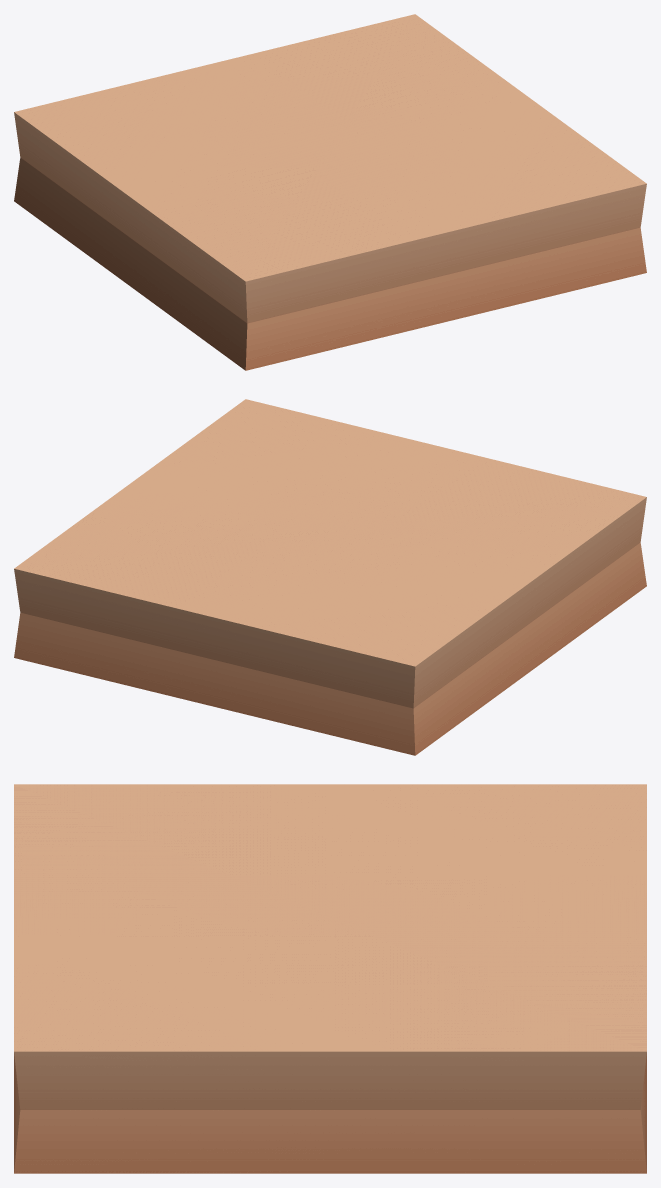
File: roof-flat-detail-c.glb
3 renders of one model, top to bottom at view 1: azimuth 30°, elevation 25°; view 2: azimuth 150°, elevation 25°; view 3: azimuth 270°, elevation 25°, orthographic. The views are drawn at different scales.
Parts seen in each view (by area): view 1: roof-flat-detail-c; view 2: roof-flat-detail-c; view 3: roof-flat-detail-c.
Boxes of the visible parts, <box> form: roof-flat-detail-c: <box>14,14,646,370</box>; roof-flat-detail-c: <box>14,399,646,755</box>; roof-flat-detail-c: <box>14,784,646,1173</box>.
Bounding box in the file's own units: 1 × 0.2125 × 1.
Materials: 1 (1 with a texture image).
